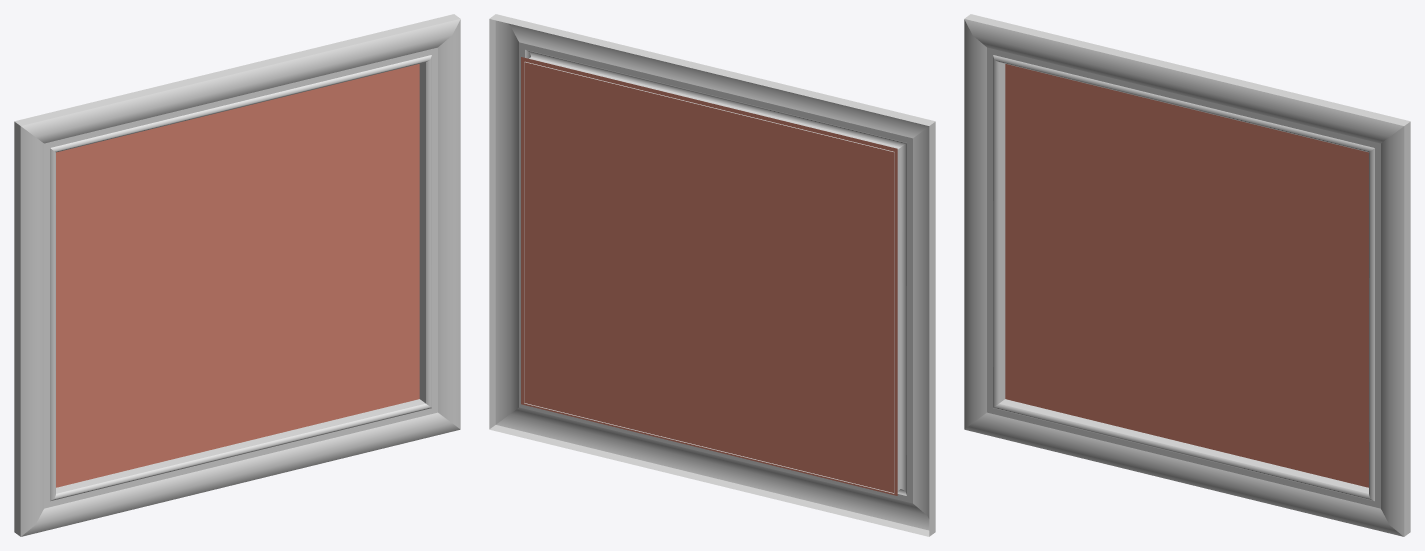
Rendered from SM_Props_Decor_11.fbx.
3 views of the same model, side by side, from view 1: azimuth 30°, elevation 25°; view 2: azimuth 150°, elevation 25°; view 3: azimuth 330°, elevation 25° (orthographic).
Parts seen in each view (by area): view 1: SM_Props_Decor_11; view 2: SM_Props_Decor_11; view 3: SM_Props_Decor_11.
Boxes of the visible parts, x1,y1,x2,y2 form: SM_Props_Decor_11: [14, 14, 460, 536]; SM_Props_Decor_11: [489, 14, 935, 536]; SM_Props_Decor_11: [964, 14, 1410, 536].
Size of the model in its own units: 276 by 246 by 10.52.
